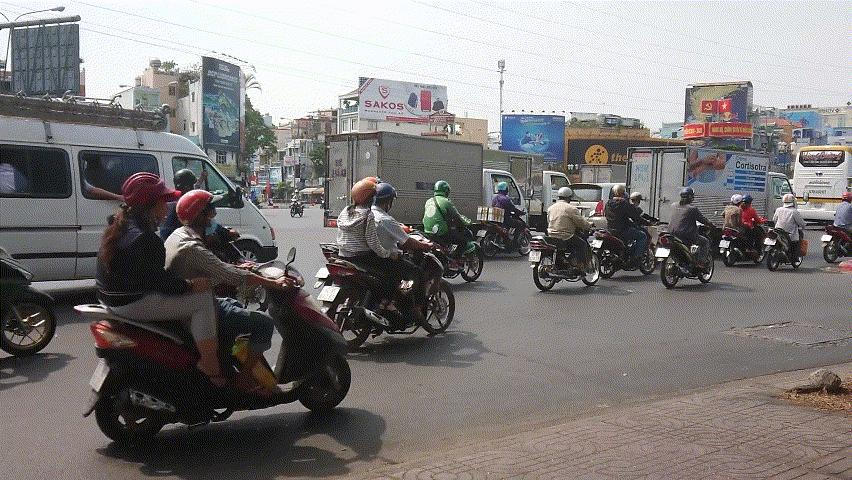driver: (73, 170, 350, 447), (311, 176, 456, 352), (526, 185, 602, 292), (407, 180, 484, 282), (654, 185, 721, 289), (596, 184, 656, 278), (480, 181, 532, 259), (762, 193, 811, 272), (718, 194, 769, 269), (820, 191, 852, 263)
helmet: (119, 171, 181, 230), (176, 188, 224, 242), (351, 179, 378, 209), (174, 167, 198, 196), (376, 183, 397, 214), (433, 180, 451, 198), (557, 186, 574, 204), (679, 185, 694, 203), (781, 193, 798, 208), (730, 194, 743, 208), (611, 185, 625, 197), (497, 182, 509, 195), (742, 195, 753, 206), (842, 192, 852, 203)
